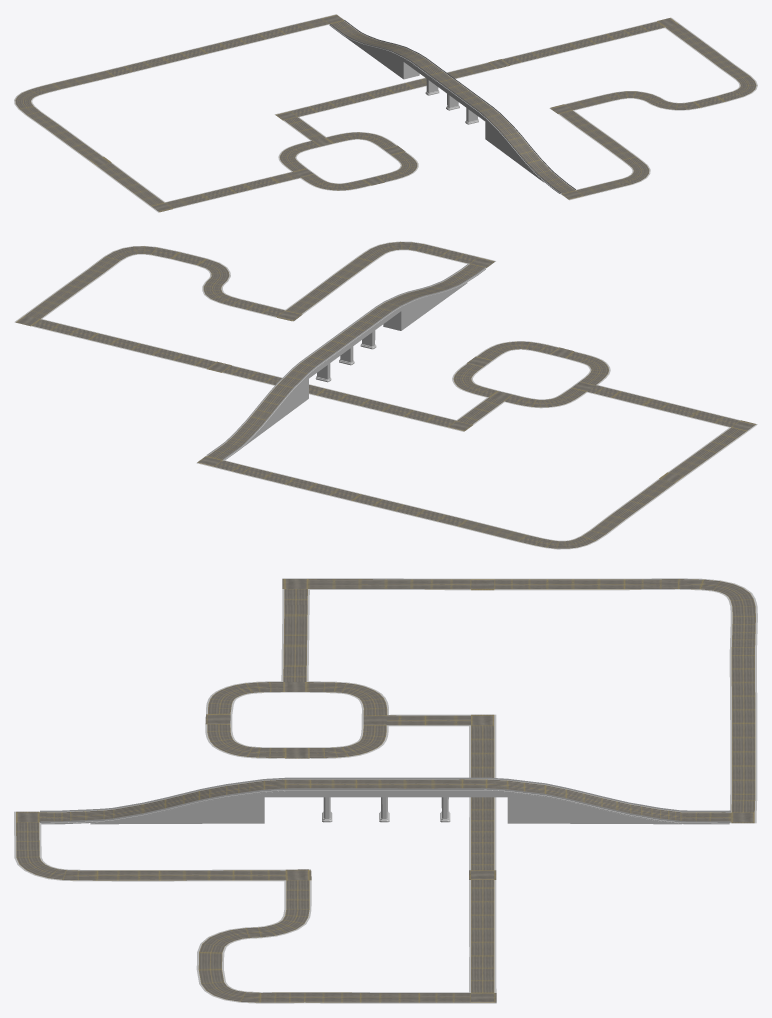
The model's file is Map2.fbx.
3 renders of one model, top to bottom at view 1: azimuth 30°, elevation 25°; view 2: azimuth 150°, elevation 25°; view 3: azimuth 270°, elevation 25°, orthographic. The views are drawn at different scales.
Visible parts, largest first — view 1: Street, Bridge; view 2: Street, Bridge; view 3: Street, Bridge.
Boxes of the visible parts, left/top/right/bottom form: Street: left=14, top=14, right=757, bottom=212; Bridge: left=347, top=38, right=543, bottom=182; Street: left=14, top=241, right=757, bottom=549; Bridge: left=244, top=282, right=467, bottom=446; Street: left=14, top=578, right=757, bottom=1003; Bridge: left=90, top=791, right=682, bottom=824.
Bounding box in the file's own units: 1294 × 50.55 × 956.
